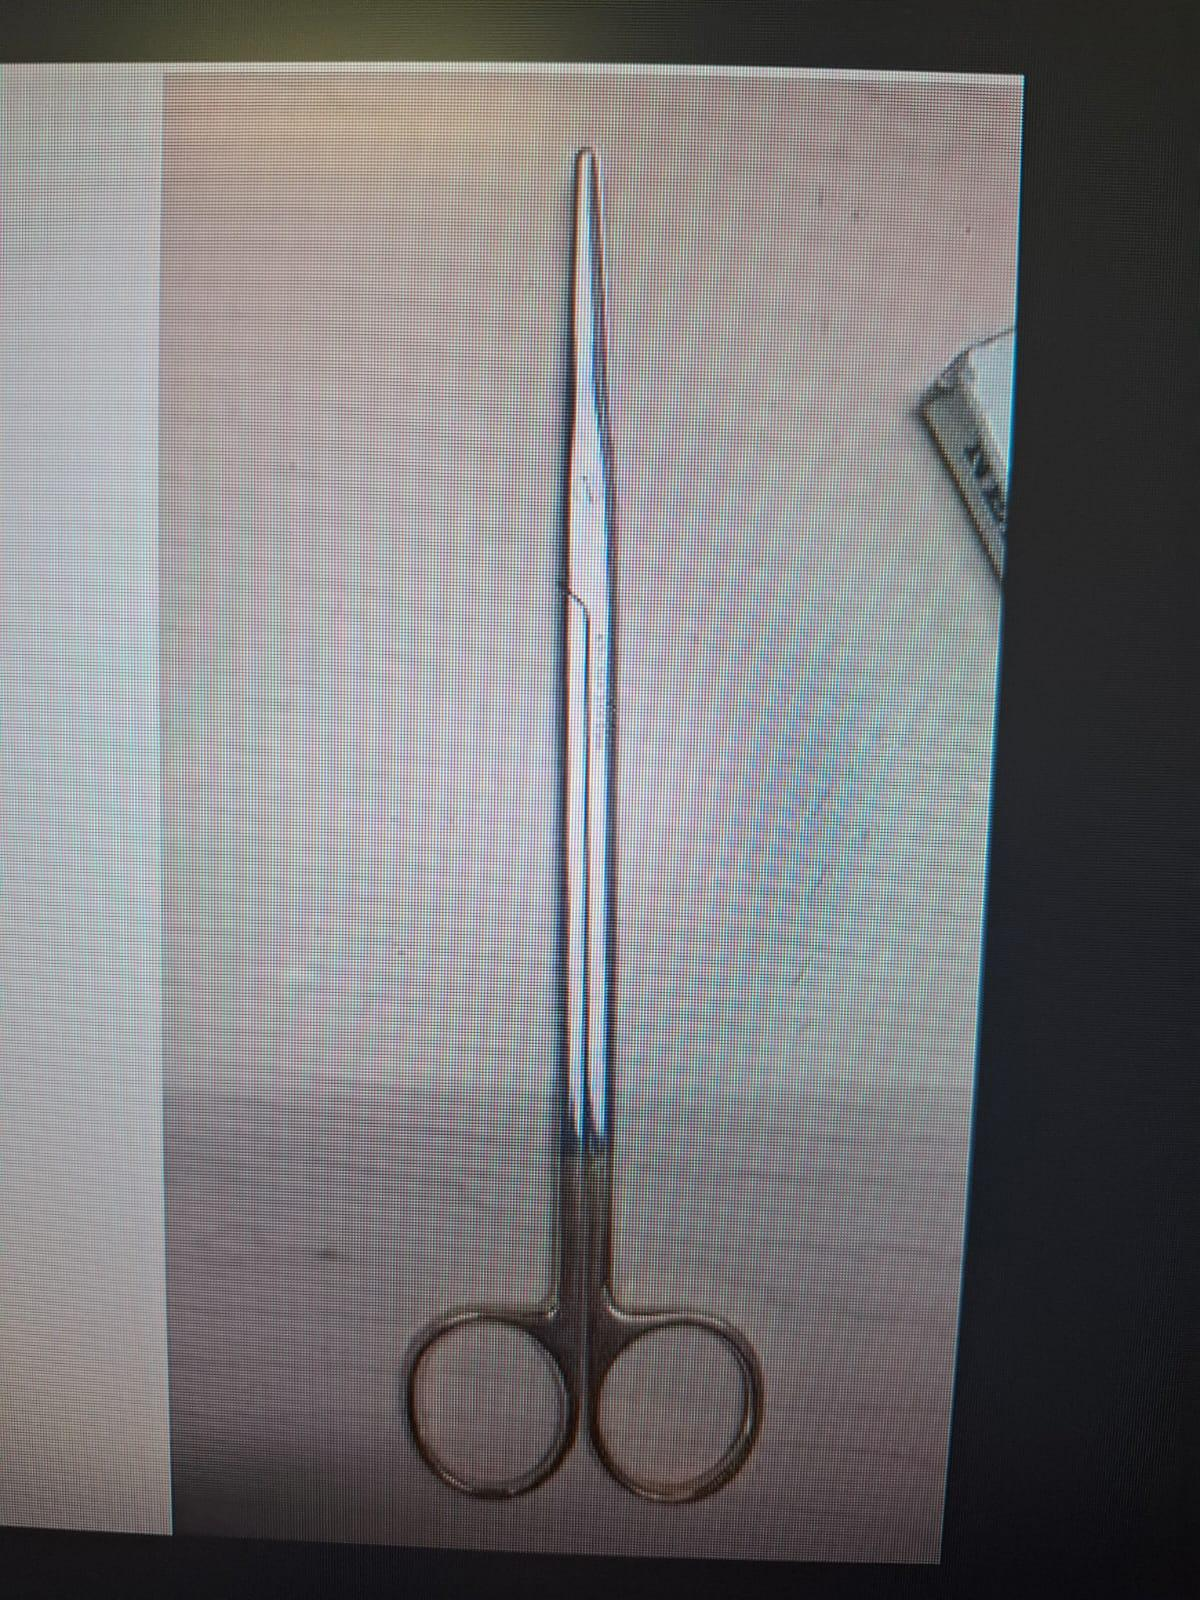Metzenbaum Sciccors: (410, 137, 763, 1516)
